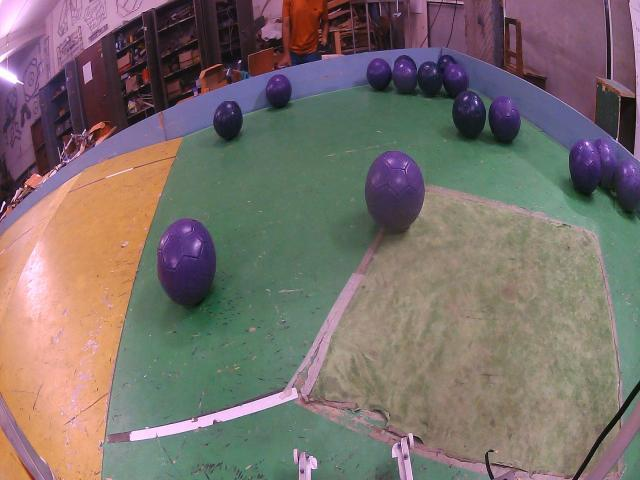jambhalya: (157, 218, 217, 305), (365, 151, 425, 231), (569, 140, 601, 195), (489, 97, 521, 143), (615, 160, 640, 211), (593, 139, 617, 188), (392, 60, 418, 93), (265, 75, 291, 108), (444, 64, 468, 98), (366, 58, 391, 90)
kaalyya: (453, 92, 486, 138), (214, 102, 242, 139), (417, 61, 443, 96), (437, 55, 457, 73), (395, 55, 417, 70)
